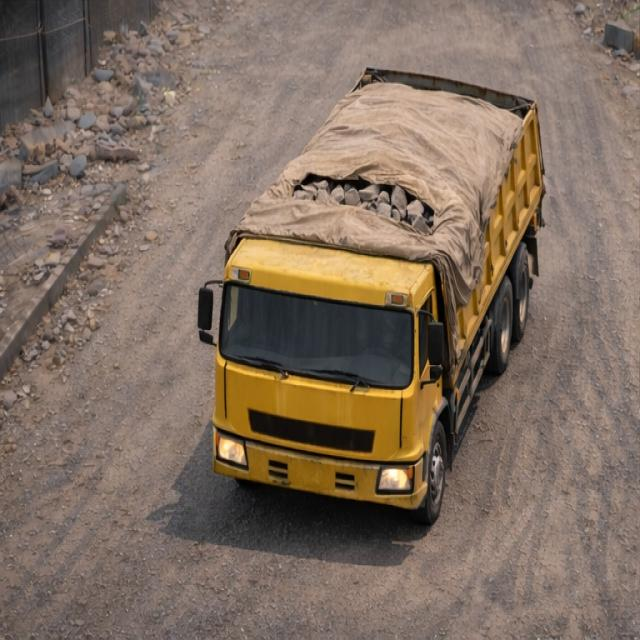trailer: (237, 67, 544, 240)
truck: (188, 51, 568, 513)
